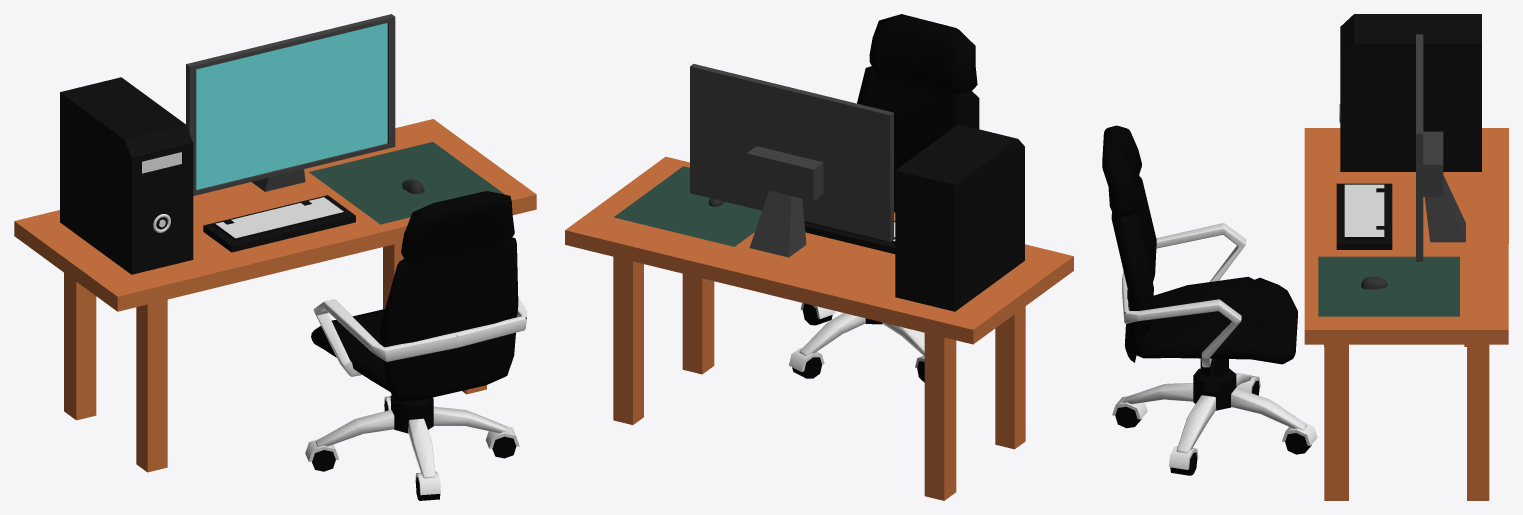
The model's file is scenenocomp2.gltf.
3 views of the same model, side by side, from view 1: azimuth 30°, elevation 25°; view 2: azimuth 150°, elevation 25°; view 3: azimuth 270°, elevation 25° (orthographic). The views are drawn at different scales.
Visible parts, largest first — view 1: Computer Chair, Table, Monitor, PC, Mousepad, Keyboard; view 2: Table, Monitor, PC, Computer Chair, Mousepad, Keyboard; view 3: Table, Computer Chair, PC, Mousepad, Monitor, Keyboard.
Part boxes in pixels (x1,y1,x2,y2): Computer Chair: [305, 191, 526, 500]; Table: [14, 119, 536, 472]; Monitor: [186, 14, 395, 195]; PC: [60, 77, 193, 274]; Mousepad: [309, 142, 504, 224]; Keyboard: [203, 195, 355, 252]; Table: [565, 156, 1073, 500]; Monitor: [690, 63, 893, 257]; PC: [895, 124, 1024, 311]; Computer Chair: [788, 14, 979, 382]; Mousepad: [613, 166, 761, 246]; Keyboard: [804, 221, 895, 253]; Table: [1304, 128, 1508, 500]; Computer Chair: [1102, 125, 1317, 475]; PC: [1339, 14, 1481, 171]; Mousepad: [1318, 256, 1459, 316]; Monitor: [1416, 34, 1465, 261]; Keyboard: [1336, 183, 1392, 249].
Size of what is drawn, in the model's own units: 6.74 by 5.38 by 5.74.
